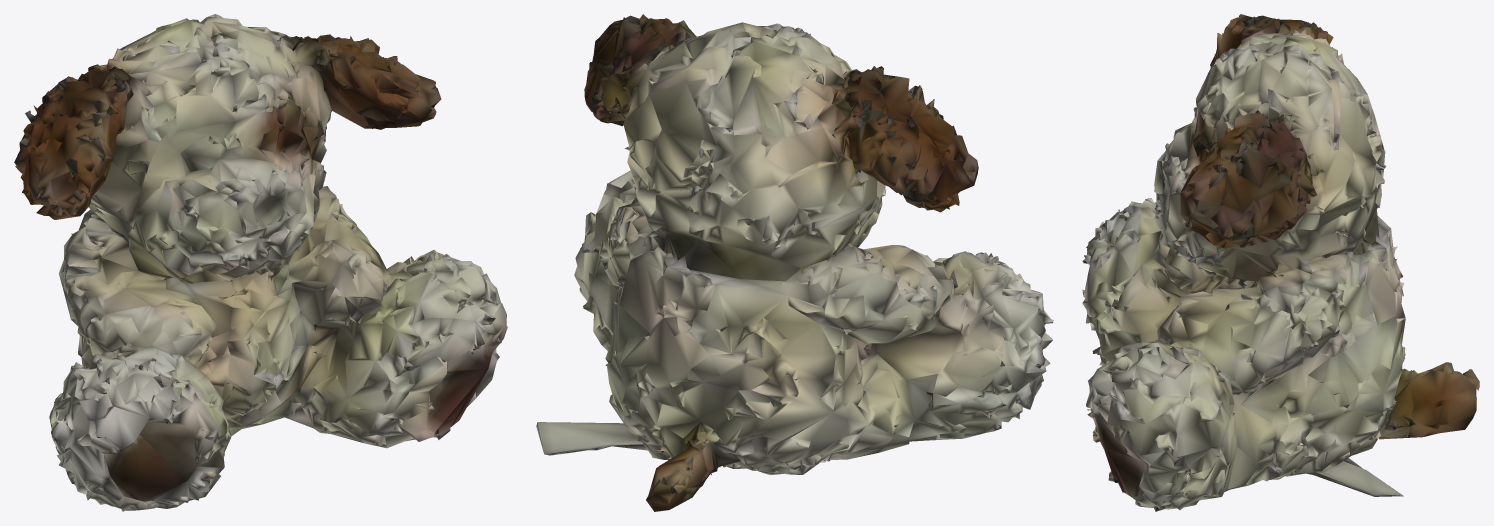
Rendered from Dog-medium.glb.
3 renders of one model, left to right at view 1: azimuth 30°, elevation 25°; view 2: azimuth 150°, elevation 25°; view 3: azimuth 270°, elevation 25°, orthographic. The views are drawn at different scales.
Visible parts, largest first — view 1: Dog; view 2: Dog; view 3: Dog.
Part boxes in pixels (x1=…): Dog: x1=14, y1=14, x2=507, y2=511; Dog: x1=536, y1=14, x2=1053, y2=511; Dog: x1=1082, y1=14, x2=1479, y2=511.
Size of the model in its own units: 0.2312 by 0.1978 by 0.1855.
Materials: 1 (1 with a texture image).
